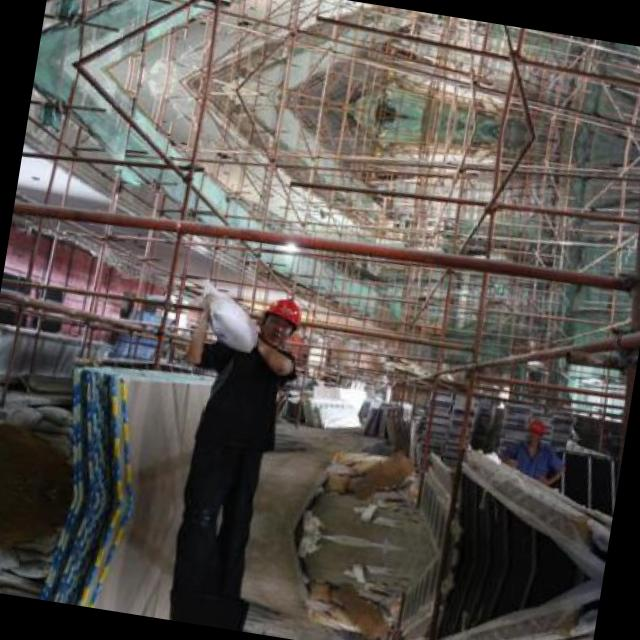helmet: (252, 288, 310, 356), (523, 412, 546, 446)
